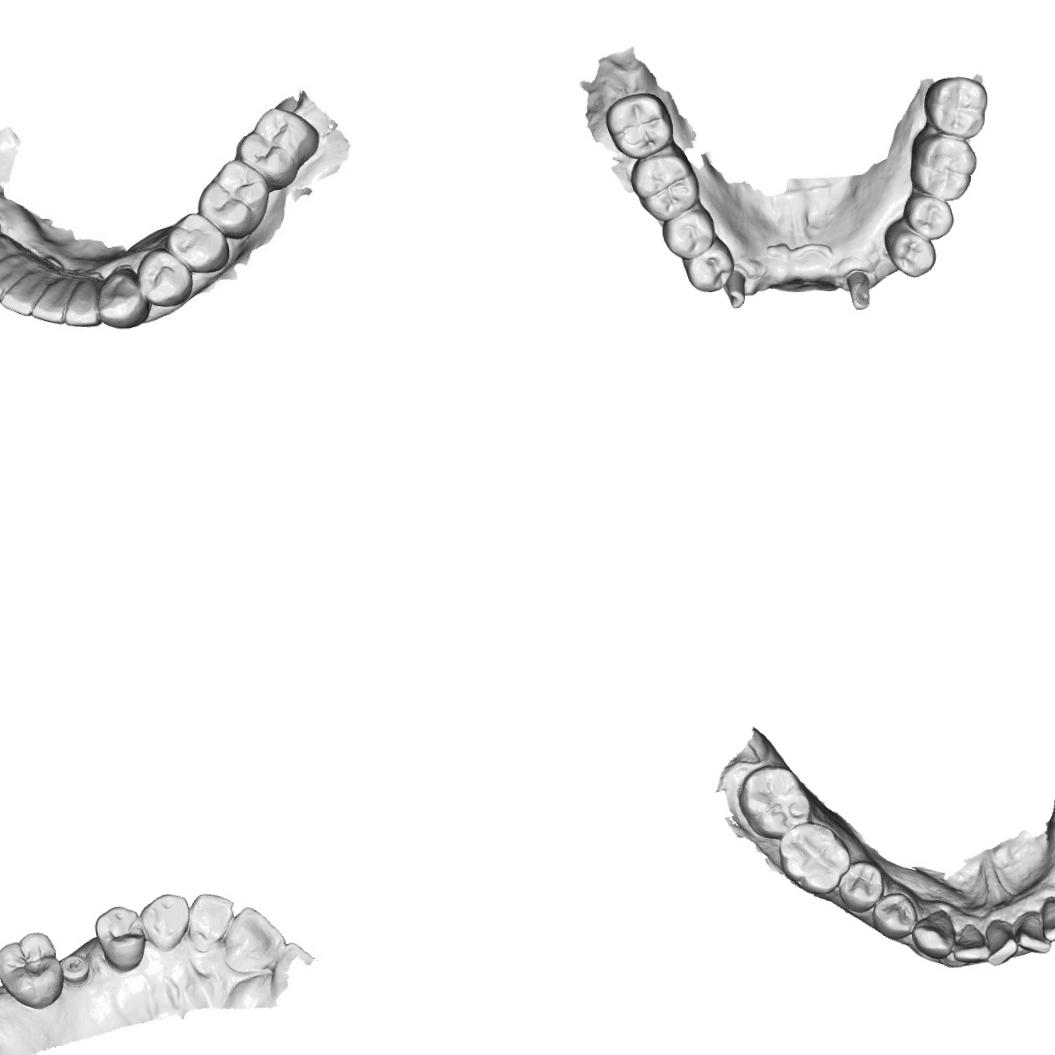abutment: (844, 267, 876, 313), (720, 266, 750, 310)
canine: (138, 892, 192, 955), (97, 266, 146, 330), (908, 907, 956, 961), (0, 230, 19, 281)
implant_minus: (59, 955, 92, 988)
incisor: (220, 906, 288, 974), (29, 256, 77, 327), (185, 891, 236, 952), (1, 260, 51, 318), (64, 272, 105, 328), (950, 922, 992, 964), (1014, 910, 1052, 956), (0, 256, 33, 306), (984, 918, 1018, 966), (1039, 896, 1055, 943)
molar: (230, 105, 322, 192), (196, 160, 272, 240), (737, 763, 814, 841), (626, 146, 702, 224), (776, 820, 853, 896), (0, 930, 65, 1012), (602, 89, 674, 162), (906, 133, 979, 204), (921, 74, 990, 140)
premolar: (162, 210, 230, 276), (92, 904, 148, 974), (659, 204, 719, 262), (136, 249, 192, 310), (681, 237, 734, 294), (884, 224, 937, 280), (836, 858, 886, 914), (901, 192, 956, 241), (870, 890, 918, 941)
